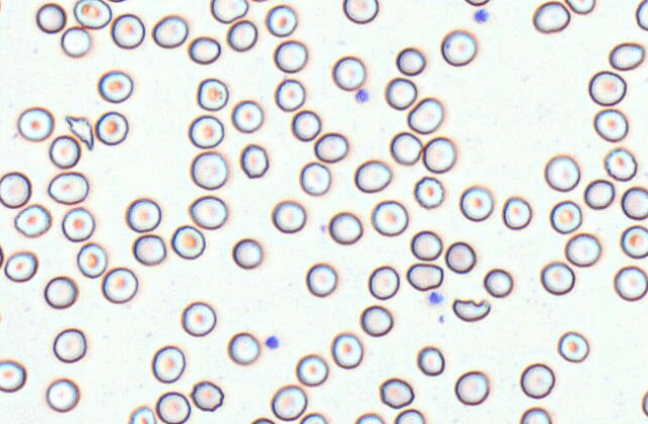PLT: (472, 7, 494, 27), (427, 289, 446, 307), (355, 88, 371, 105), (263, 336, 280, 352)
RBC: (190, 150, 228, 190), (370, 199, 408, 236), (406, 96, 443, 134), (47, 171, 89, 204), (101, 266, 138, 303), (440, 29, 477, 66), (588, 70, 626, 106), (270, 384, 307, 420), (544, 154, 580, 191), (188, 195, 227, 229), (519, 362, 555, 398), (17, 106, 54, 141), (354, 159, 392, 193), (151, 345, 185, 383), (13, 203, 51, 237), (125, 197, 161, 232), (110, 13, 145, 49), (564, 232, 600, 267), (180, 301, 216, 336), (151, 14, 188, 48), (187, 114, 224, 148), (422, 136, 456, 173), (532, 0, 570, 33), (454, 370, 489, 405), (45, 377, 80, 412), (170, 224, 205, 259), (613, 265, 647, 301), (52, 327, 86, 363), (459, 185, 493, 221), (330, 332, 363, 369), (540, 261, 575, 295), (271, 199, 306, 233), (61, 206, 95, 241), (593, 108, 628, 142), (94, 110, 128, 145), (97, 70, 133, 103), (603, 147, 637, 181), (273, 39, 307, 73), (43, 275, 78, 308), (332, 55, 365, 90), (549, 199, 582, 234), (155, 391, 191, 423), (0, 171, 31, 208), (73, 0, 112, 29), (328, 211, 362, 244), (389, 131, 422, 165), (227, 331, 260, 365), (367, 265, 399, 300), (299, 161, 331, 196), (48, 134, 80, 169), (305, 262, 337, 297), (76, 242, 107, 278), (295, 353, 328, 386), (132, 233, 166, 265), (4, 250, 38, 282), (385, 76, 417, 110), (359, 304, 393, 336), (231, 99, 263, 133), (313, 132, 348, 163), (379, 377, 414, 408), (406, 262, 443, 291), (196, 77, 228, 110), (265, 4, 297, 37), (190, 380, 224, 411), (413, 175, 444, 209), (239, 143, 269, 178), (557, 330, 589, 362), (274, 78, 305, 111), (501, 195, 531, 229), (608, 42, 644, 70), (226, 19, 257, 51), (60, 25, 91, 57), (445, 241, 476, 273), (35, 2, 66, 33), (584, 178, 615, 209), (291, 109, 321, 141), (410, 230, 442, 260), (232, 237, 262, 269), (188, 35, 220, 64), (620, 224, 647, 258), (621, 186, 647, 220), (210, 0, 248, 23), (483, 268, 513, 297), (395, 47, 425, 76), (416, 345, 444, 376), (0, 359, 26, 392), (342, 0, 378, 23), (519, 406, 551, 423), (127, 405, 156, 423), (393, 408, 424, 423), (565, 0, 595, 14), (635, 0, 648, 30), (354, 412, 384, 423), (299, 412, 327, 423), (641, 390, 648, 417), (250, 416, 275, 423), (464, 0, 490, 6), (0, 244, 4, 269), (246, 0, 270, 3), (107, 0, 130, 2)
Schistocyte: (64, 115, 95, 153), (451, 297, 493, 325)
